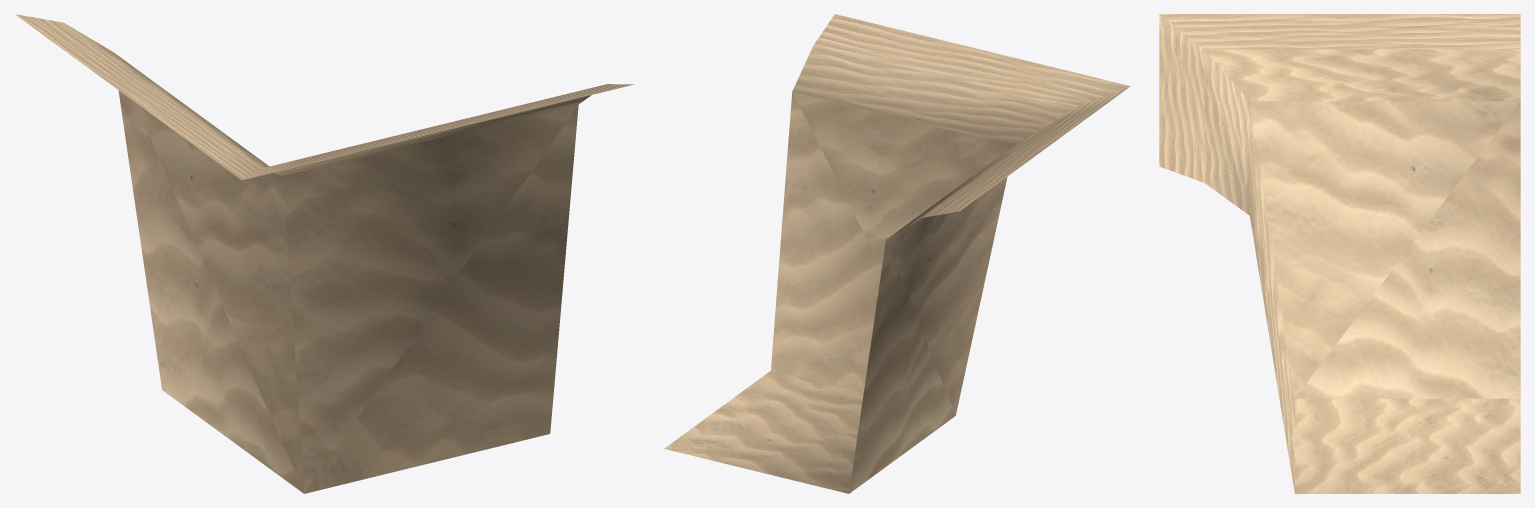
The model's file is Sand2c.obj.
The picture shows the model from 3 angles, left to right: view 1: azimuth 30°, elevation 25°; view 2: azimuth 150°, elevation 25°; view 3: azimuth 270°, elevation 25°; orthographic projection. The views are drawn at different scales.
Parts seen in each view (by area): view 1: Grid_Grid.002; view 2: Grid_Grid.002; view 3: Grid_Grid.002.
Boxes of the visible parts, box(x1,y1,x2,y2) form: Grid_Grid.002: box(15, 14, 634, 493); Grid_Grid.002: box(664, 14, 1130, 493); Grid_Grid.002: box(1159, 14, 1520, 493).
Size of the model in its own units: 1 by 1 by 1.
Materials: 1 (1 with a texture image).
